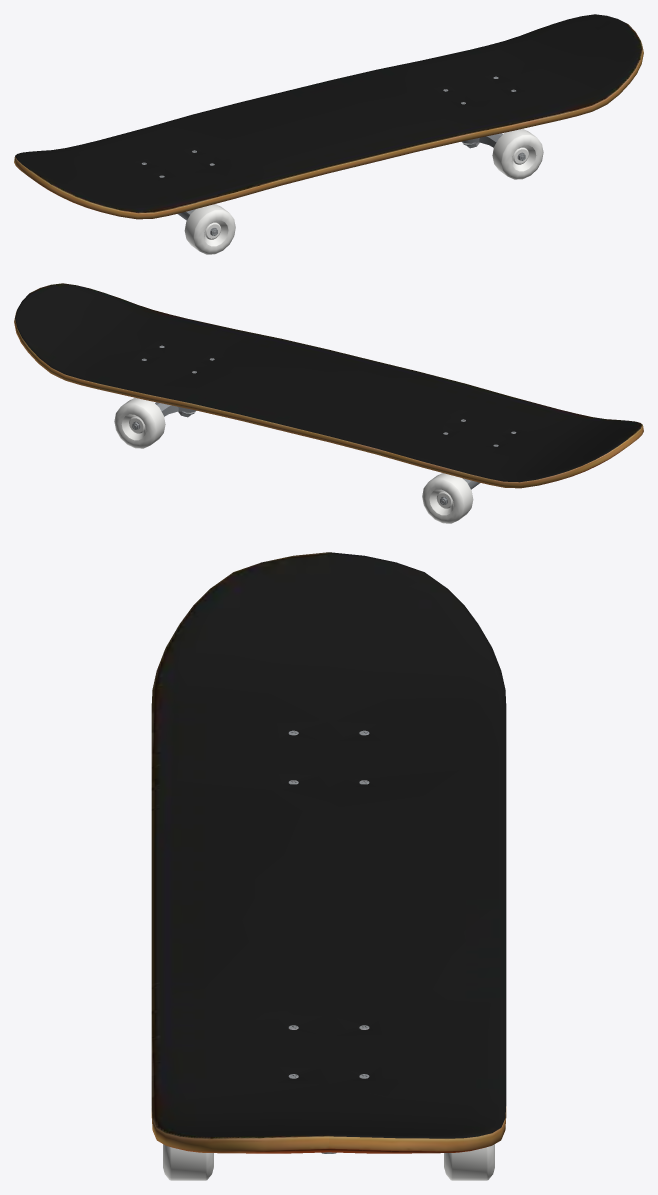
File: skateboard.glb
3 renders of one model, top to bottom at view 1: azimuth 30°, elevation 25°; view 2: azimuth 150°, elevation 25°; view 3: azimuth 270°, elevation 25°, orthographic. The views are drawn at different scales.
Visible parts, largest first — view 1: Object_2; view 2: Object_2; view 3: Object_2.
Boxes of the visible parts, x1,y1,x2,y2 form: Object_2: (14, 14, 643, 254); Object_2: (14, 283, 643, 523); Object_2: (151, 552, 506, 1180).
Bounding box in the file's own units: 8.64 × 1.24 × 2.2.
2 materials, 1 textured.
